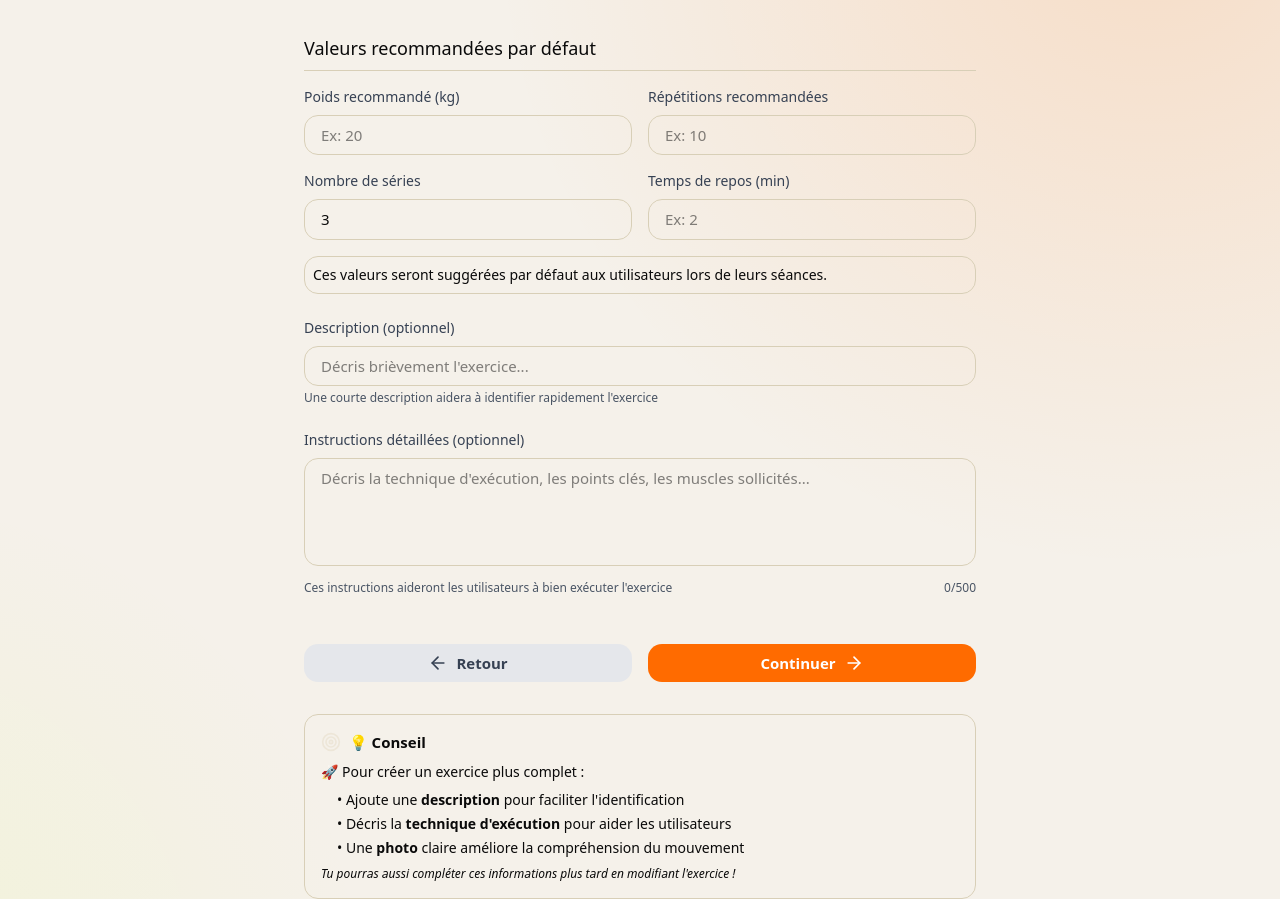
Scenario: CustomForm - Tests d'Accessibilité WCAG 2.1 AA › Fonctionnalité des Champs Optionnels › doit afficher le compteur de caractères pour les instructions
(page scrolled)
Check: the text "0/500" is shown, box 944,580 -> 976,596
Ajouter du texte
Type "Test" into the text box with placeholder "Décris la technique" at (640, 512), box 304,458 -> 976,566
(page scrolled)
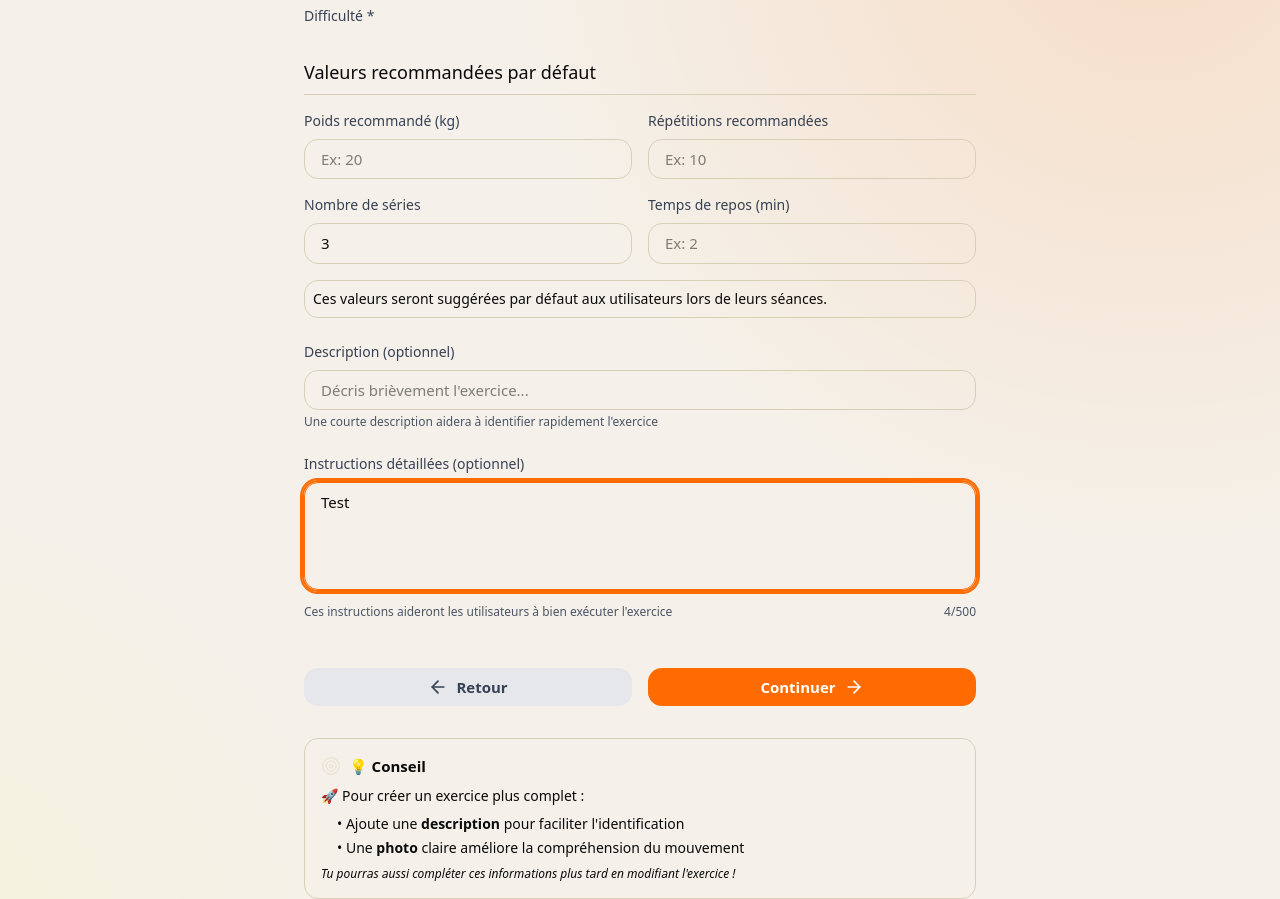
Check: the text "4/500" is shown, box 944,604 -> 976,620
